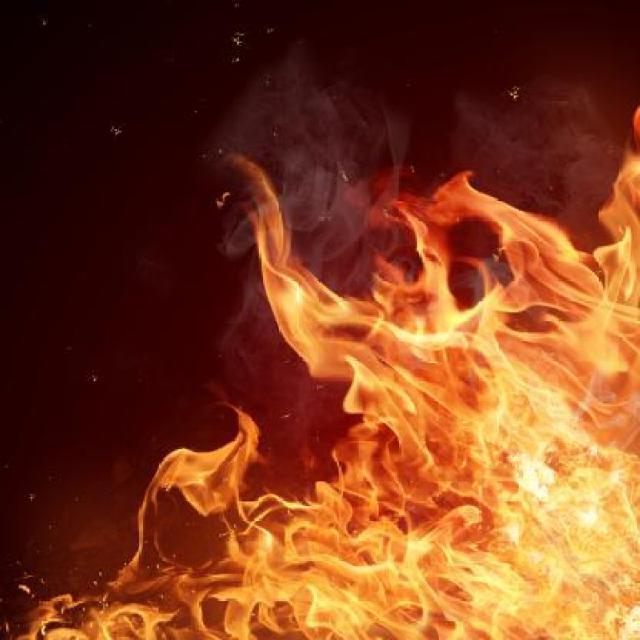Fire: (0, 0, 635, 640)
Smoke: (152, 43, 640, 635)
